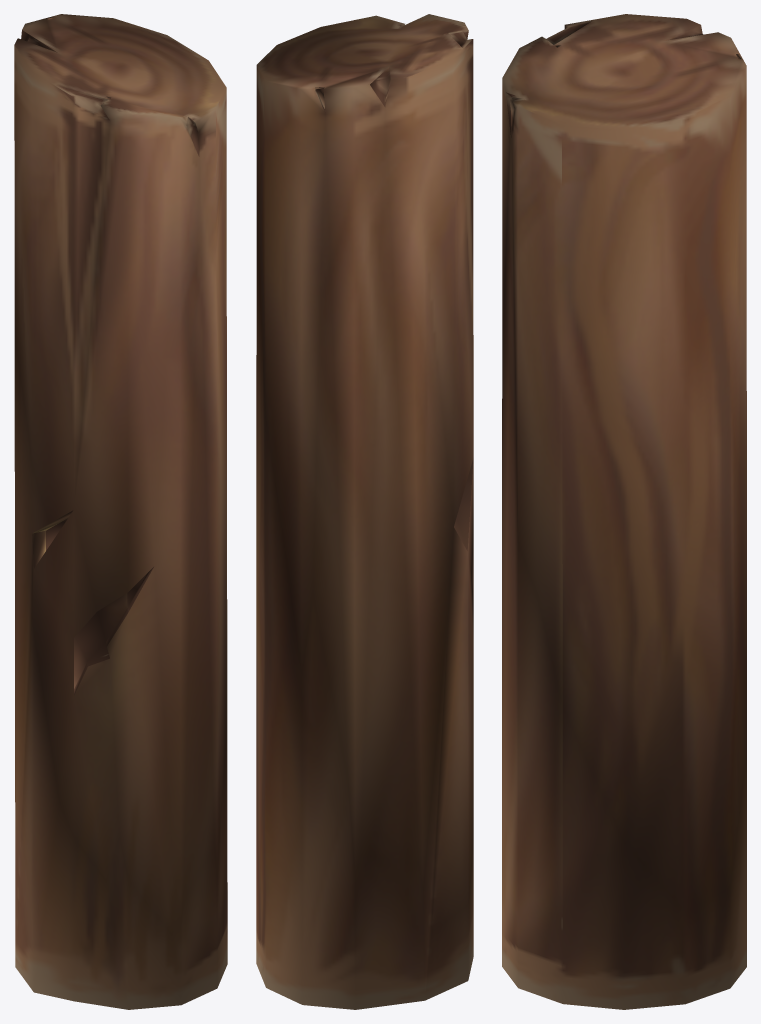
Rendered from SM_Fence_Pole_01.fbx.
3 views of the same model, side by side, from view 1: azimuth 30°, elevation 25°; view 2: azimuth 150°, elevation 25°; view 3: azimuth 270°, elevation 25° (orthographic).
Visible parts, largest first — view 1: pole 1; view 2: pole 1; view 3: pole 1.
Part boxes in pixels (x1,y1,x2,y2): pole 1: (14, 14, 227, 1009); pole 1: (256, 14, 473, 1009); pole 1: (502, 14, 746, 1009).
Bounding box in the file's own units: 30.54 × 146 × 35.46.
Materials: 1 (1 with a texture image).
